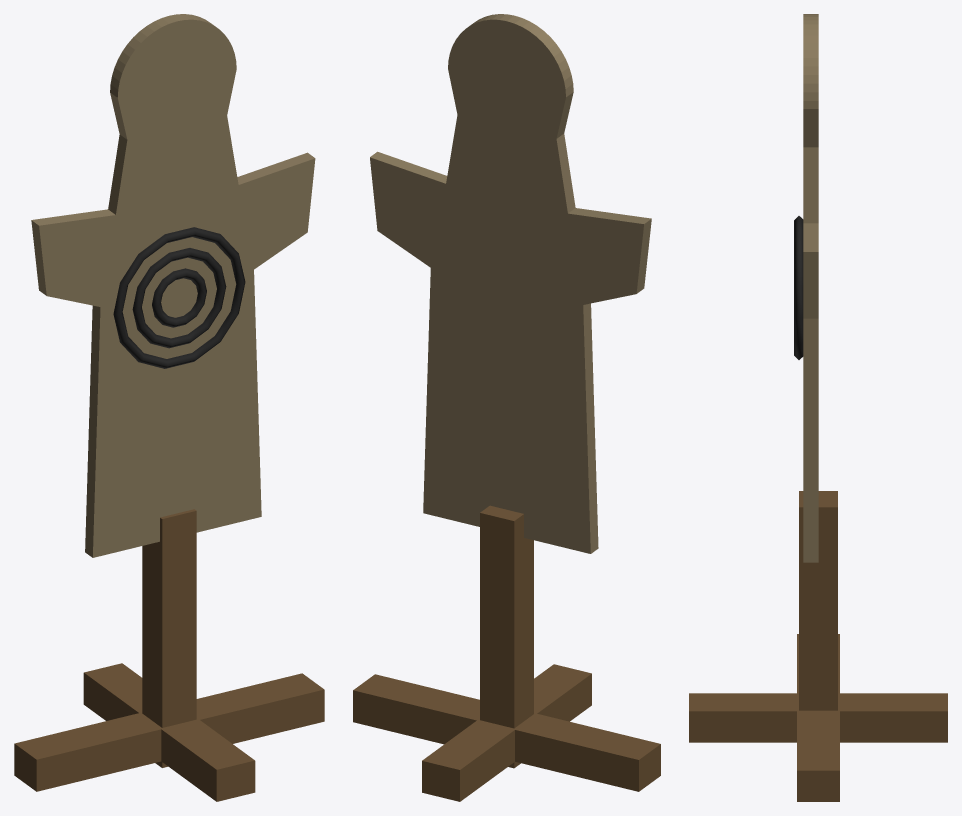
Rendered from target_silhouette.glb.
3 views of the same model, side by side, from view 1: azimuth 30°, elevation 25°; view 2: azimuth 150°, elevation 25°; view 3: azimuth 270°, elevation 25° (orthographic). The views are drawn at different scales.
Parts seen in each view (by area): view 1: TargetSilhouette; view 2: TargetSilhouette; view 3: TargetSilhouette.
Boxes of the visible parts, bbox=[...] form: TargetSilhouette: bbox=[14, 14, 324, 801]; TargetSilhouette: bbox=[353, 14, 660, 801]; TargetSilhouette: bbox=[689, 14, 947, 801].
Bounding box in the file's own units: 0.75 × 1.84 × 0.6.
